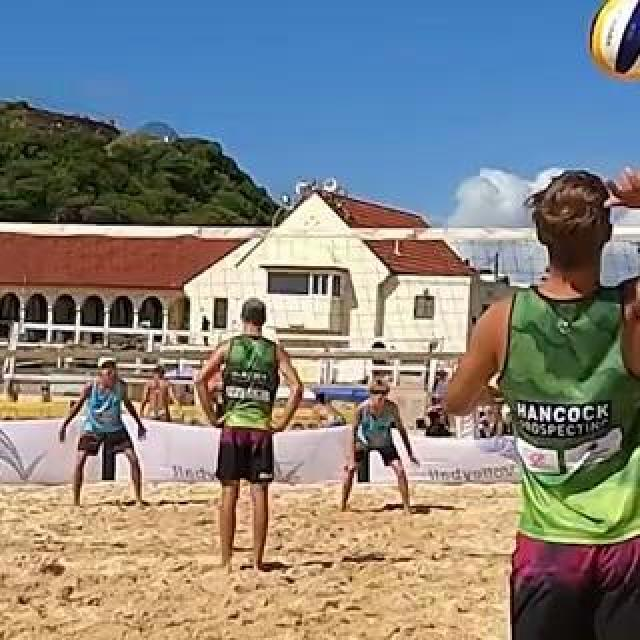volleyball: (588, 0, 640, 74)
